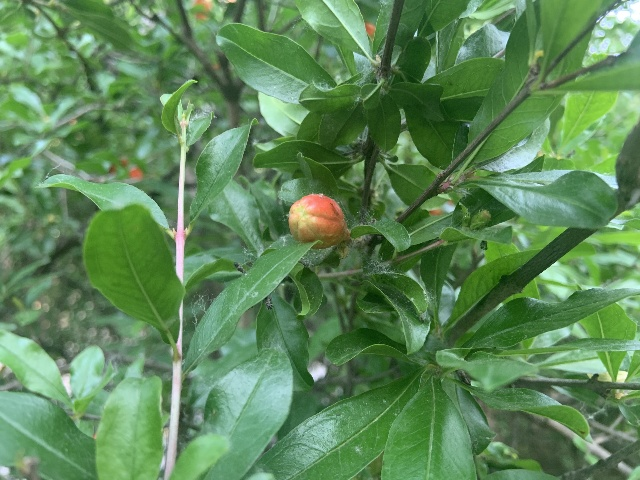bud: (288, 194, 349, 248)
